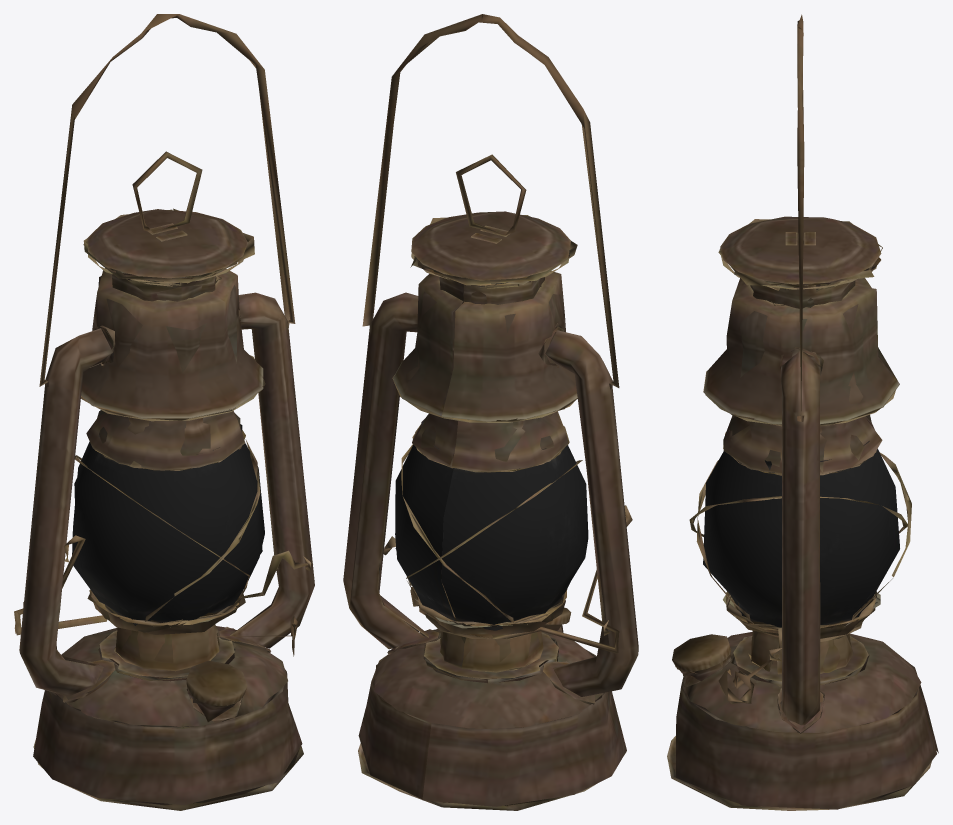
The model's file is kf_lantern.glb.
3 views of the same model, side by side, from view 1: azimuth 30°, elevation 25°; view 2: azimuth 150°, elevation 25°; view 3: azimuth 270°, elevation 25° (orthographic).
Visible parts, largest first — view 1: Lantern_01, Lantern_01_glass; view 2: Lantern_01, Lantern_01_glass; view 3: Lantern_01, Lantern_01_glass.
Part boxes in pixels (bbox=[...]): Lantern_01: bbox=[14, 14, 314, 810]; Lantern_01_glass: bbox=[72, 424, 264, 625]; Lantern_01: bbox=[343, 14, 638, 810]; Lantern_01_glass: bbox=[395, 418, 588, 630]; Lantern_01: bbox=[667, 14, 938, 810]; Lantern_01_glass: bbox=[703, 430, 899, 627].
Size of the model in its own units: 0.1224 by 0.294 by 0.0979.
Materials: 2 (2 with a texture image).
